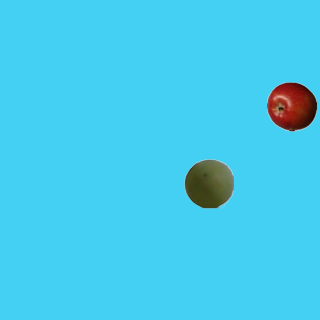Apple Braeburn: (266, 81, 316, 131)
Grape White 4: (183, 158, 233, 208)
